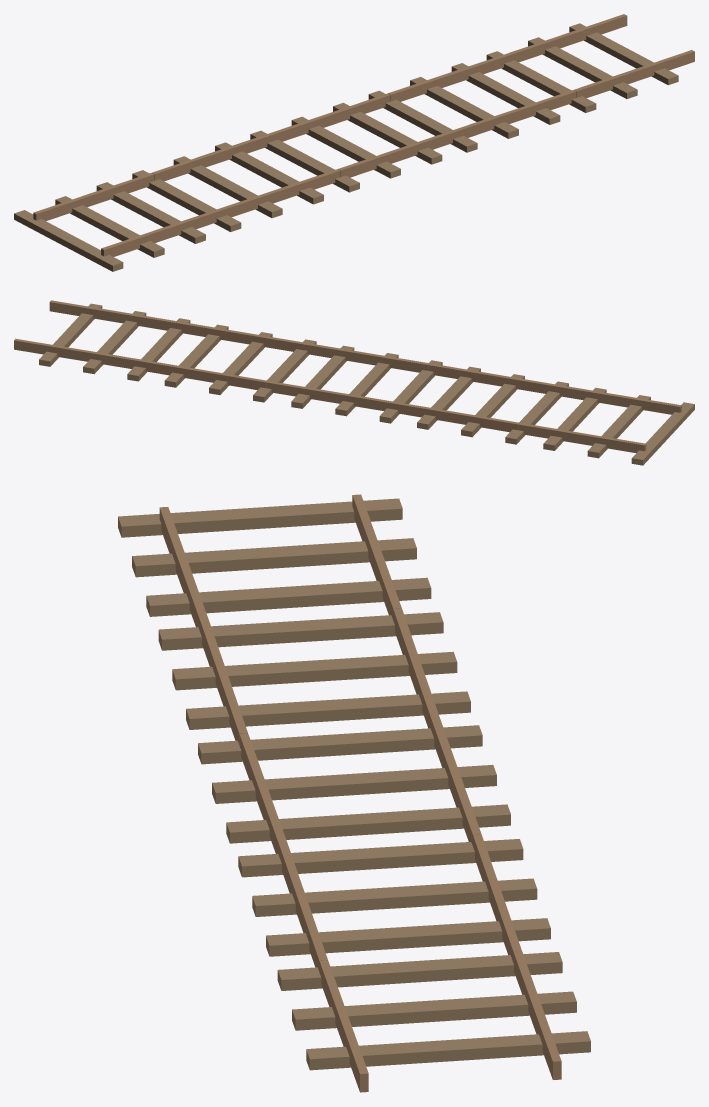
The model's file is street_-1_0.glb.
3 views of the same model, one above another, from view 1: azimuth 30°, elevation 25°; view 2: azimuth 150°, elevation 25°; view 3: azimuth 270°, elevation 25° (orthographic). The views are drawn at different scales.
Visible parts, largest first — view 1: wood.067, rust.067; view 2: rust.067, wood.067; view 3: wood.067, rust.067.
Part boxes in pixels (left/top/right/bottom): wood.067: left=14, top=23, right=678, bottom=271; rust.067: left=33, top=14, right=694, bottom=256; rust.067: left=14, top=300, right=681, bottom=453; wood.067: left=39, top=303, right=694, bottom=465; wood.067: left=118, top=498, right=590, bottom=1070; rust.067: left=159, top=494, right=561, bottom=1092.
Size of the model in its own units: 10.26 by 0.185 by 3.49.
